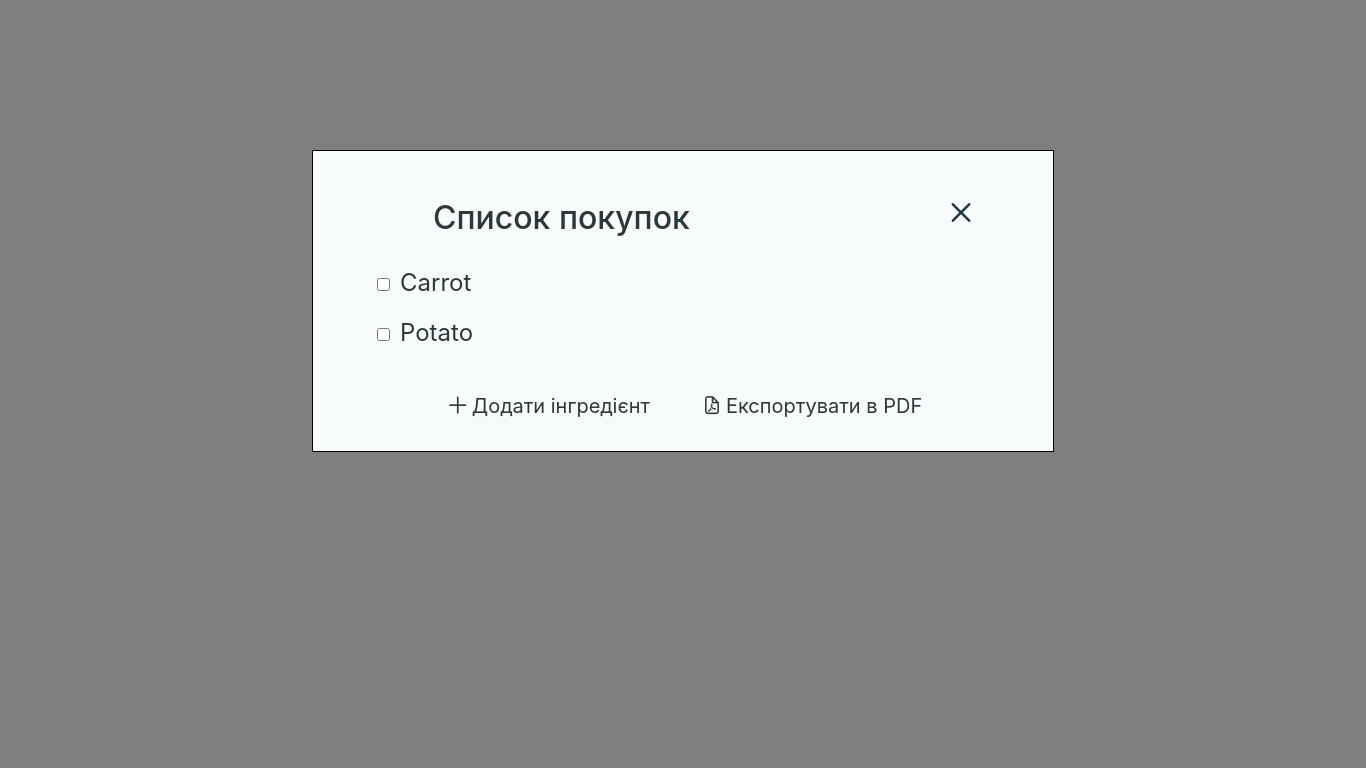
Test: ShoppingListModal › should add a new ingredient to the list
Click the button "Додати інгредієнт" at (547, 405), box x1=420 y1=379 x2=674 y2=431
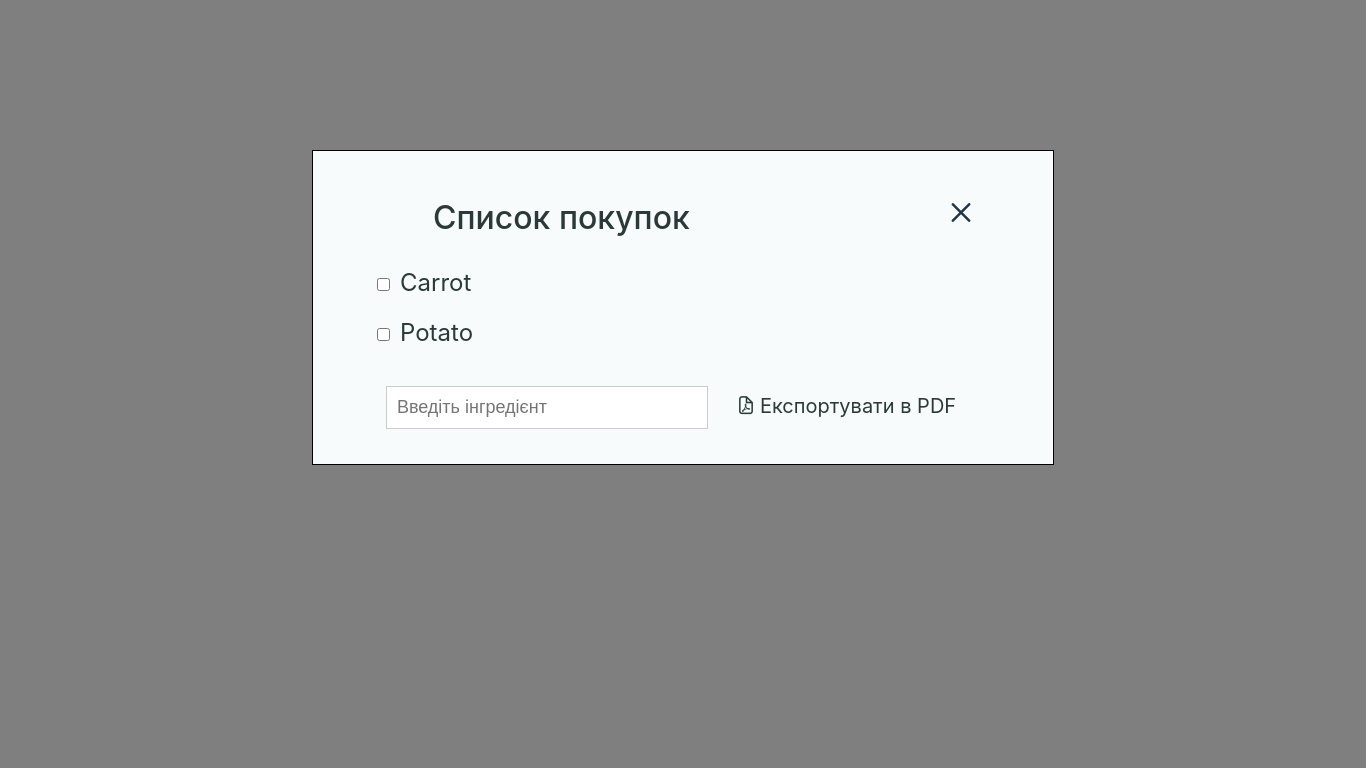
Type "Tomato" into the field with placeholder "Введіть інгредієнт" at (547, 408), box x1=386 y1=386 x2=708 y2=429
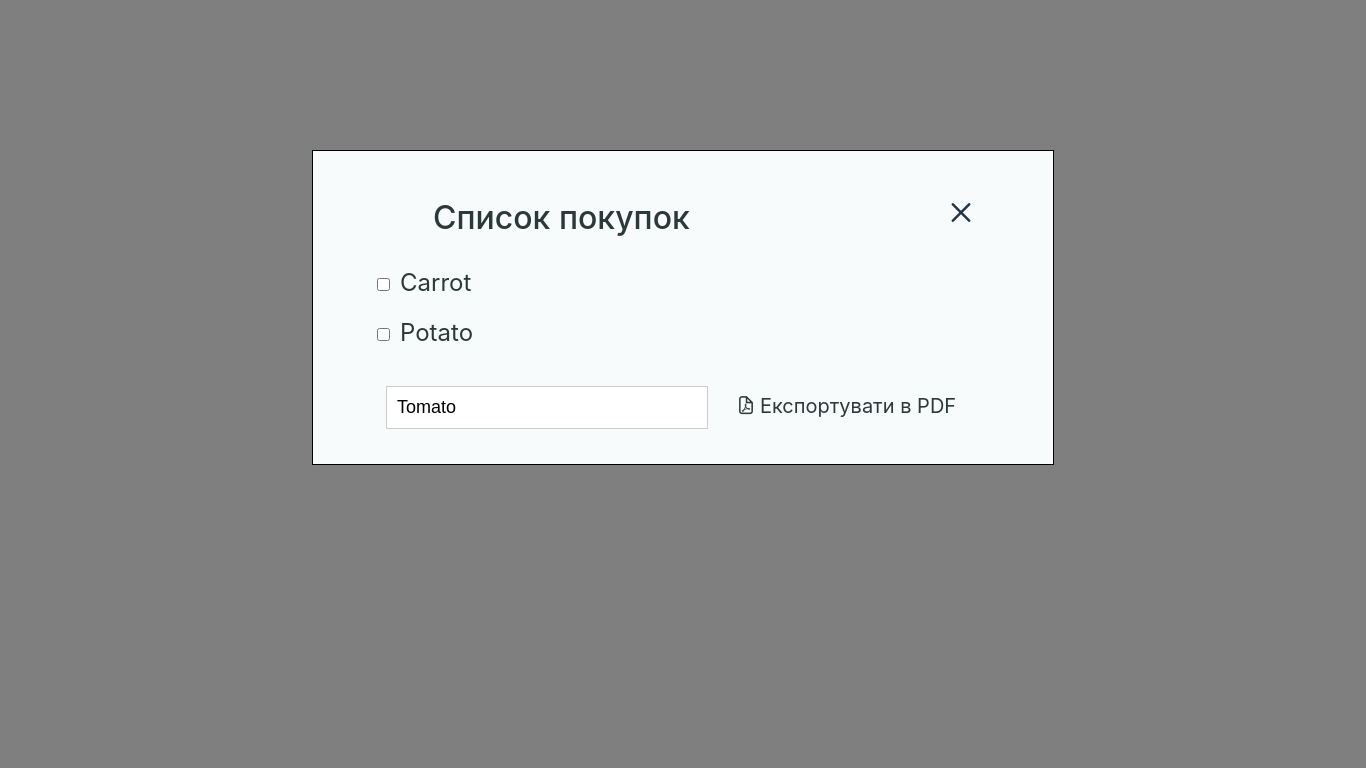
Press Enter in the field with placeholder "Введіть інгредієнт", box x1=386 y1=386 x2=708 y2=429
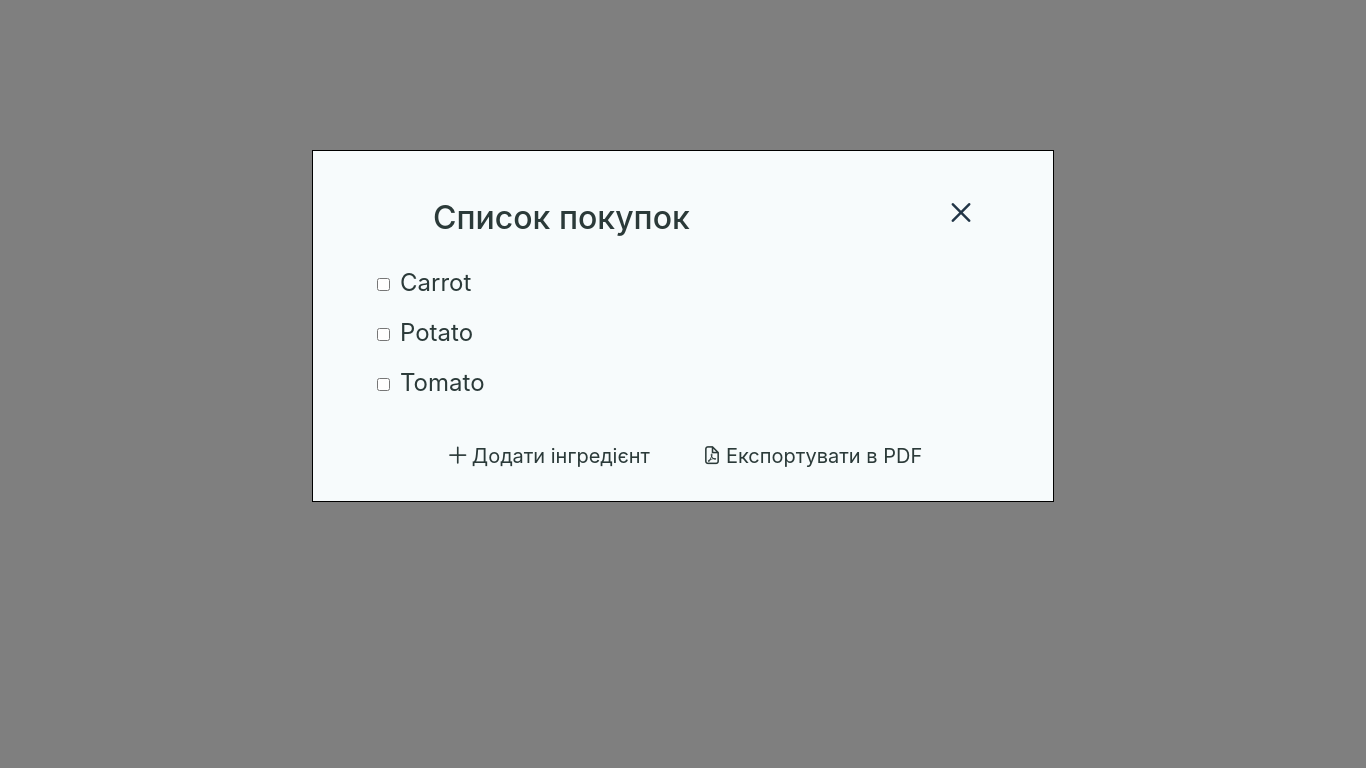
Expected: the list item "Tomato" is shown, x1=377 y1=368 x2=484 y2=397
